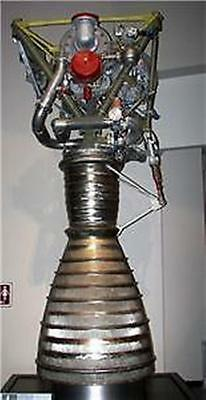thruster: (31, 236, 161, 394)
